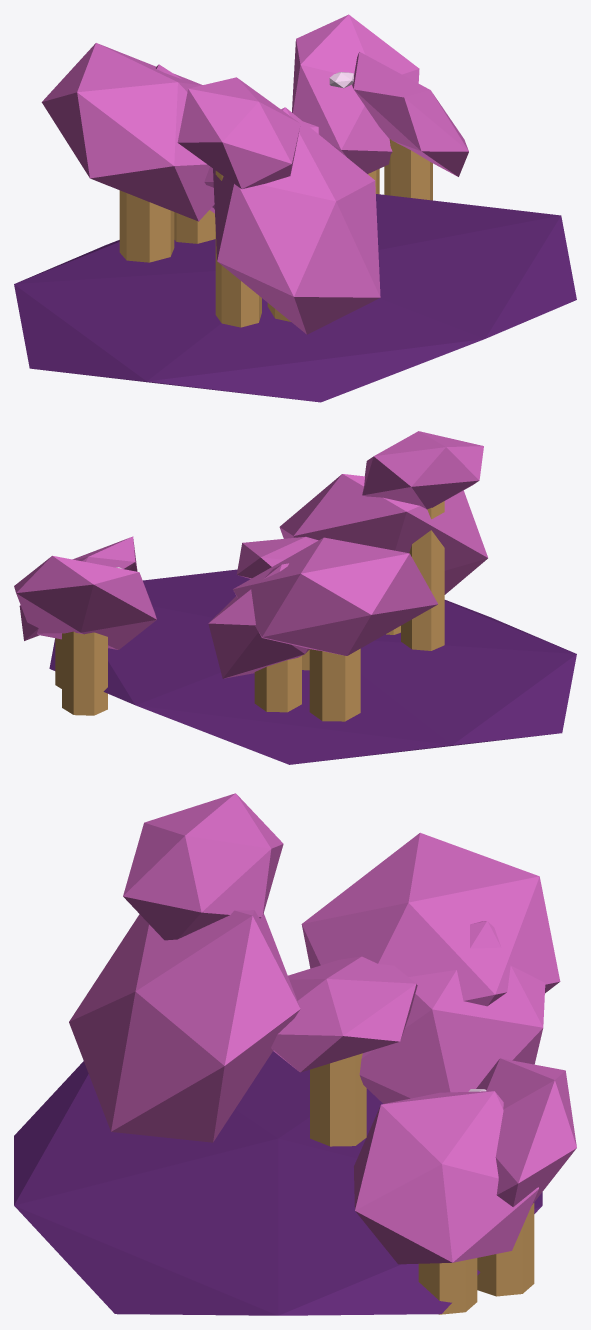
The model's file is mushroom_cluster_e.glb.
3 views of the same model, one above another, from view 1: azimuth 30°, elevation 25°; view 2: azimuth 150°, elevation 25°; view 3: azimuth 270°, elevation 25° (orthographic). The views are drawn at different scales.
Parts seen in each view (by area): view 1: Mire_Growth.004, Cap_7.002, Cap_3.004, Cap_1.004, Cap_6.002, Cap_5.003, Stem_3.010, Stem_6.004, Stem_5.009, Stem_4.009; view 2: Mire_Growth.004, Cap_3.004, Cap_7.002, Cap_1.004, Cap_6.002, Cap_4.003, Stem_1.010, Stem_3.010, Stem_6.004, Stem_4.009, Cap_2.004, Cap_5.003; view 3: Mire_Growth.004, Cap_7.002, Cap_3.004, Cap_5.003, Cap_4.003, Cap_6.002, Cap_2.004, Cap_1.004, Stem_2.010, Stem_1.010, Stem_5.009.
Boxes of the visible parts, <box> form: Mire_Growth.004: <box>14,194,576,402</box>; Cap_7.002: <box>213,107,380,334</box>; Cap_3.004: <box>41,43,214,221</box>; Cap_1.004: <box>292,14,419,173</box>; Cap_6.002: <box>177,77,300,188</box>; Cap_5.003: <box>352,51,468,176</box>; Stem_3.010: <box>119,190,174,262</box>; Stem_6.004: <box>215,171,261,327</box>; Stem_5.009: <box>384,139,432,200</box>; Stem_4.009: <box>174,210,215,243</box>; Mire_Growth.004: <box>49,569,576,764</box>; Cap_3.004: <box>233,537,437,655</box>; Cap_7.002: <box>279,474,487,594</box>; Cap_1.004: <box>14,555,156,649</box>; Cap_6.002: <box>362,431,483,509</box>; Cap_4.003: <box>208,563,309,678</box>; Stem_1.010: <box>62,631,107,715</box>; Stem_3.010: <box>309,648,360,721</box>; Stem_6.004: <box>401,501,444,650</box>; Stem_4.009: <box>254,656,301,712</box>; Cap_2.004: <box>236,536,318,578</box>; Cap_5.003: <box>19,536,137,640</box>; Mire_Growth.004: <box>14,1051,542,1315</box>; Cap_7.002: <box>69,910,300,1142</box>; Cap_3.004: <box>301,832,560,1006</box>; Cap_5.003: <box>354,1091,538,1264</box>; Cap_4.003: <box>359,921,545,1103</box>; Cap_6.002: <box>123,793,283,940</box>; Cap_2.004: <box>271,956,417,1072</box>; Cap_1.004: <box>476,1058,576,1206</box>; Stem_2.010: <box>310,1053,366,1146</box>; Stem_1.010: <box>477,1203,534,1296</box>; Stem_5.009: <box>418,1258,477,1314</box>.
Bounding box in the file's own units: 1.7 × 0.8328 × 1.27.
